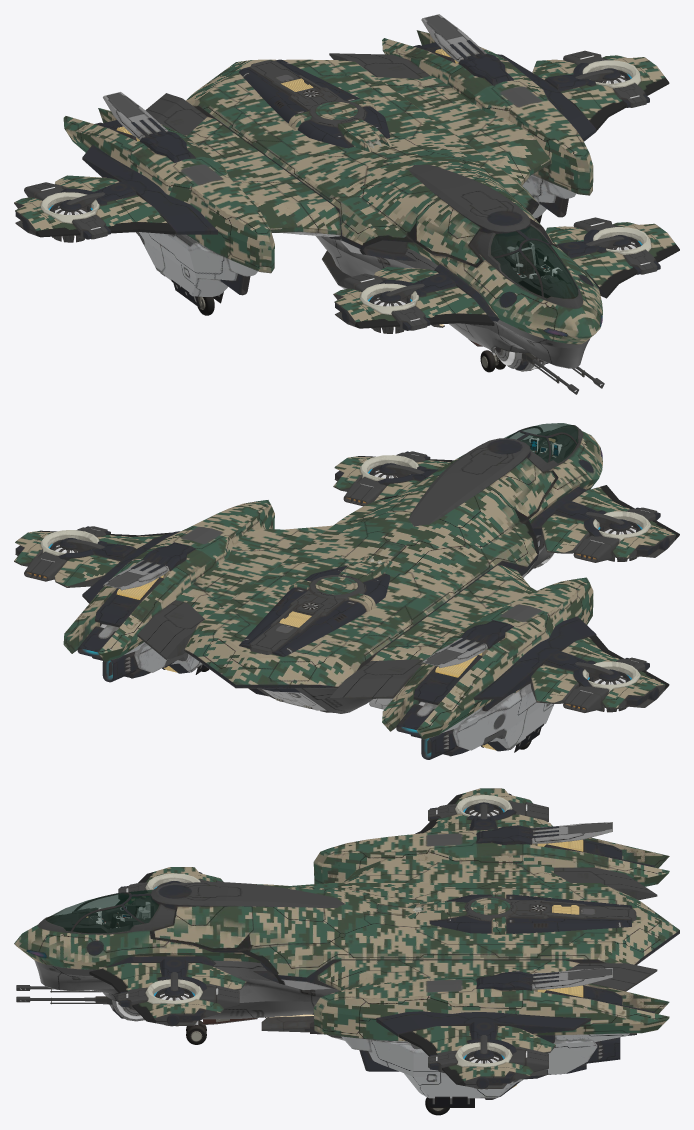
File: vtol.glb
3 views of the same model, one above another, from view 1: azimuth 30°, elevation 25°; view 2: azimuth 150°, elevation 25°; view 3: azimuth 270°, elevation 25° (orthographic). The views are drawn at different scales.
Visible parts, largest first — view 1: hull_top, main_engine, vertical_thrust, tailgate, hull_bottom, cockpit_canopy, cockpit_fixtures, ball_turret; view 2: hull_top, main_engine, vertical_thrust, tailgate, cockpit_canopy, hull_bottom, cockpit_fixtures; view 3: hull_top, main_engine, vertical_thrust, tailgate, hull_bottom, cockpit_canopy, cockpit_fixtures, ball_turret, railgun.
Part boxes in pixels (bbox=[...]): hull_top: bbox=[82, 53, 602, 344]; main_engine: bbox=[63, 14, 593, 296]; vertical_thrust: bbox=[14, 50, 679, 333]; tailgate: bbox=[239, 59, 392, 151]; hull_bottom: bbox=[171, 214, 590, 372]; cockpit_canopy: bbox=[491, 225, 578, 298]; cockpit_fixtures: bbox=[491, 227, 577, 298]; ball_turret: bbox=[494, 347, 604, 394]; hull_top: bbox=[82, 425, 602, 700]; main_engine: bbox=[63, 500, 593, 759]; vertical_thrust: bbox=[14, 451, 679, 712]; tailgate: bbox=[239, 555, 392, 712]; cockpit_canopy: bbox=[504, 423, 578, 463]; hull_bottom: bbox=[195, 535, 551, 752]; cockpit_fixtures: bbox=[521, 428, 577, 462]; hull_top: bbox=[14, 858, 679, 1036]; main_engine: bbox=[313, 822, 669, 1099]; vertical_thrust: bbox=[89, 788, 555, 1089]; tailgate: bbox=[407, 892, 636, 934]; hull_bottom: bbox=[34, 960, 474, 1115]; cockpit_canopy: bbox=[45, 889, 159, 933]; cockpit_fixtures: bbox=[49, 898, 153, 933]; ball_turret: bbox=[16, 985, 144, 1021]; railgun: bbox=[261, 1014, 344, 1040].
Bounding box in the file's own units: 17.93 × 4.35 × 17.46.
10 materials, 10 textured.
